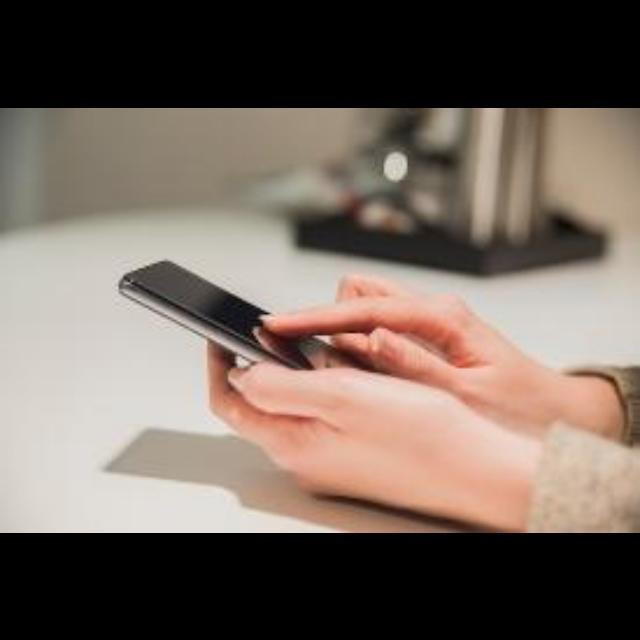Phone: (103, 238, 384, 394)
